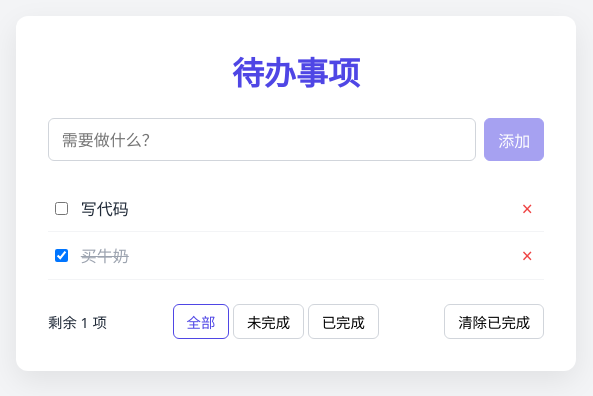
App › deletes a todo
expect the text "写代码" is shown: met, box [81,196,129,220]
Step 1. Click the button named "删除 写代码" → click(527, 208), box [514,195,541,222]
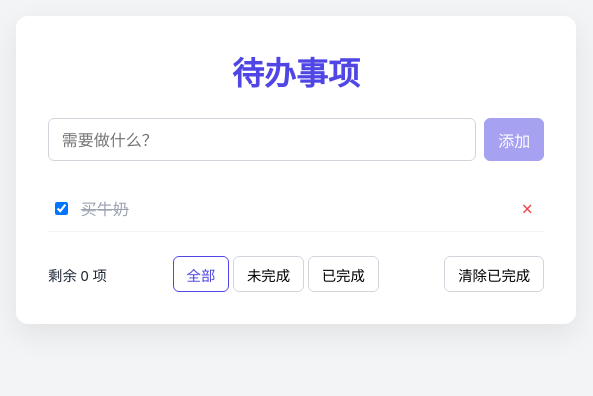
expect the text "写代码" is gone: met
